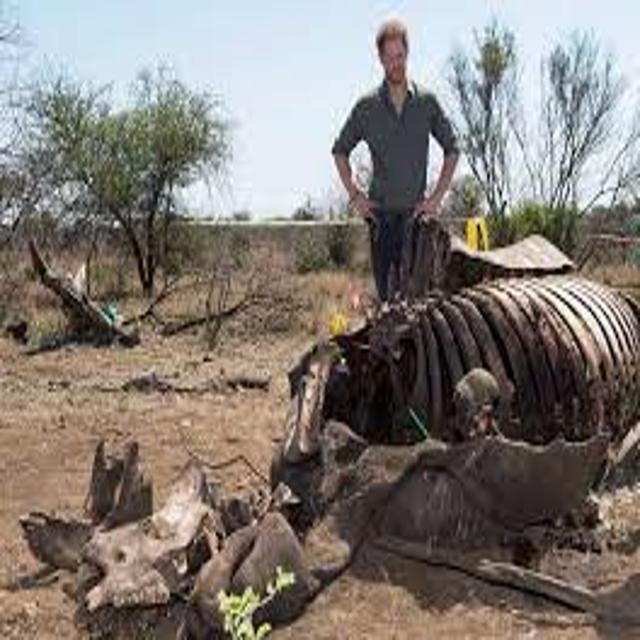poacher: (279, 8, 503, 346)
